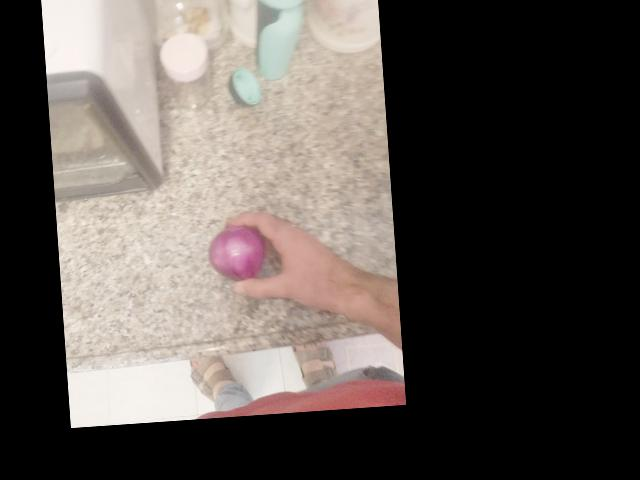onion: (69, 130, 136, 194)
